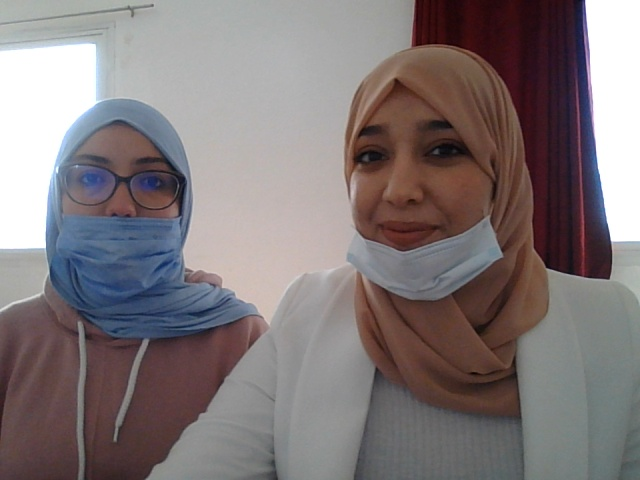mask_weared_incorrect: (331, 59, 518, 308), (45, 102, 202, 307)
